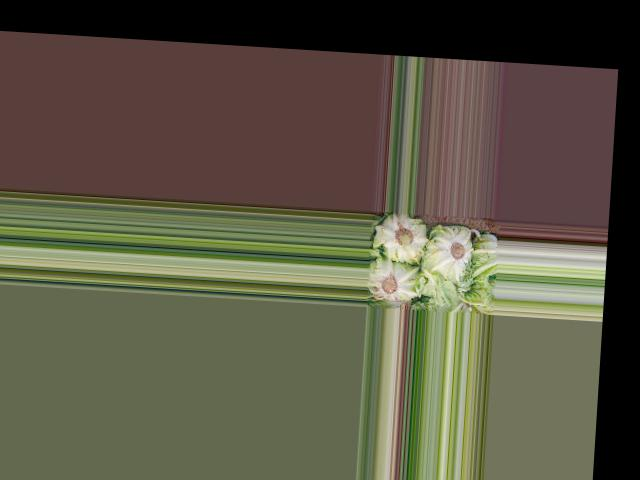lettuce: (367, 257, 420, 304)
